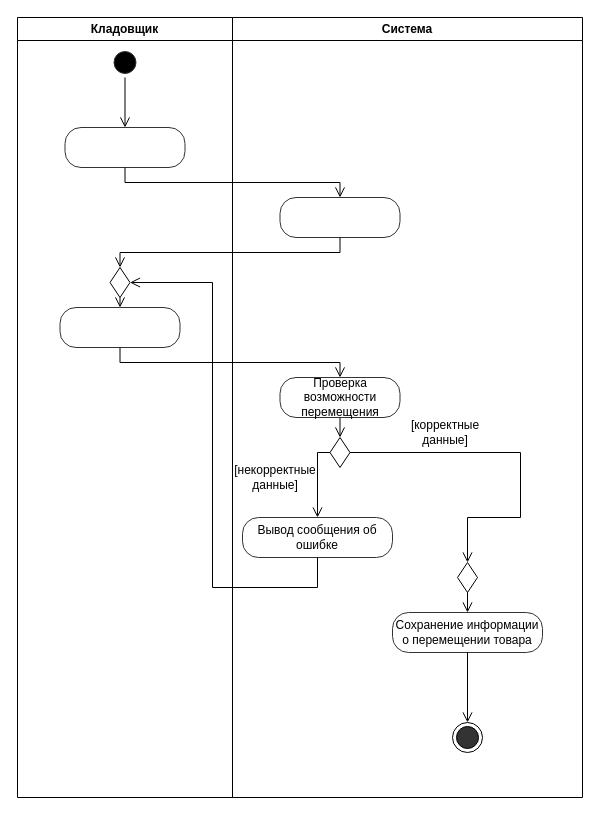
The diagram is 600 pixels wide and 815 high, and some of its shapes have lost their labels. Here are the shapes that lost their labels. From the top down, the centre of each, then its label:
[124,147]: Выбор операции "Перемещение товара"
[339,217]: Отображение мест хранения
[119,327]: Выбор товара и ячейки
